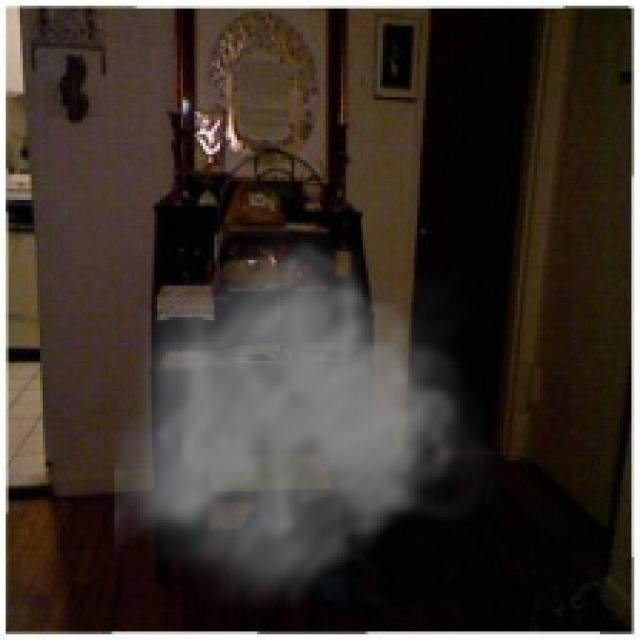smoke: (114, 223, 503, 620)
